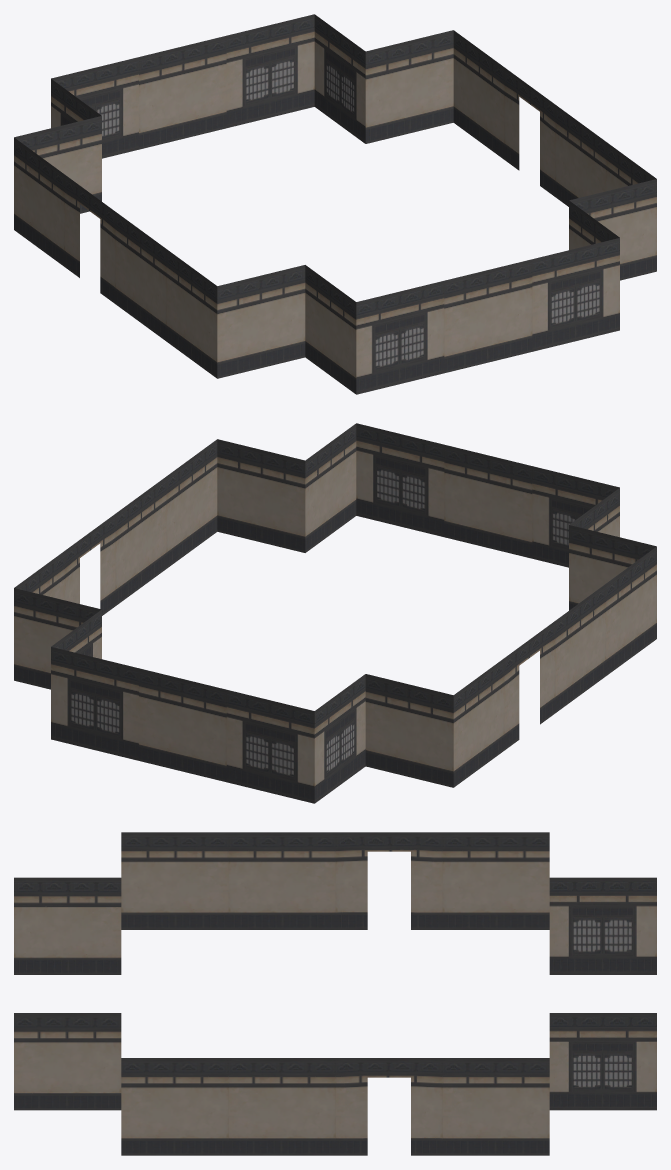
File: Homeworld_Interior_Dq_Room_D_Filling_01_Vo.fbx
The picture shows the model from 3 angles, top to bottom: view 1: azimuth 30°, elevation 25°; view 2: azimuth 150°, elevation 25°; view 3: azimuth 270°, elevation 25°; orthographic projection. The views are drawn at different scales.
Parts seen in each view (by area): view 1: Homeworld_Interior_Dq_Room_D_Filling_01_Vo; view 2: Homeworld_Interior_Dq_Room_D_Filling_01_Vo; view 3: Homeworld_Interior_Dq_Room_D_Filling_01_Vo.
Boxes of the visible parts, x1,y1,x2,y2 form: Homeworld_Interior_Dq_Room_D_Filling_01_Vo: [14, 14, 656, 394]; Homeworld_Interior_Dq_Room_D_Filling_01_Vo: [14, 423, 656, 803]; Homeworld_Interior_Dq_Room_D_Filling_01_Vo: [14, 832, 656, 1155].
Size of the model in its own units: 24.73 by 4.98 by 29.76.
